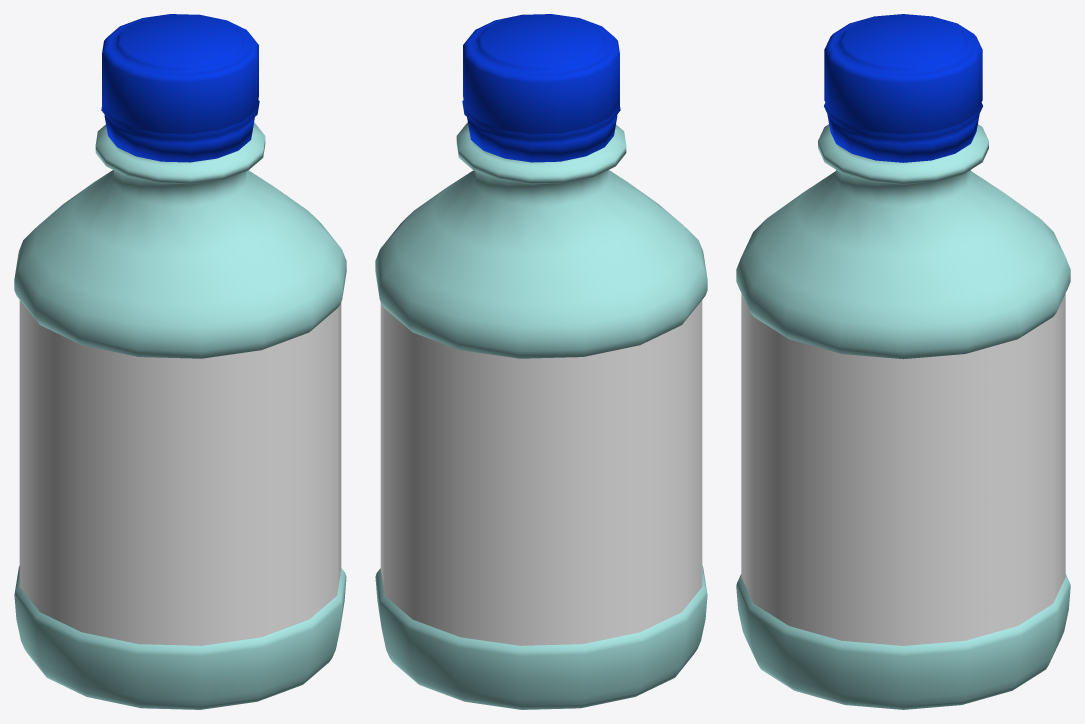
File: bottleSmall.glb
3 renders of one model, left to right at view 1: azimuth 30°, elevation 25°; view 2: azimuth 150°, elevation 25°; view 3: azimuth 270°, elevation 25°, orthographic.
Visible parts, largest first — view 1: bottleLabel, bottleBody, bottleCap; view 2: bottleLabel, bottleBody, bottleCap; view 3: bottleLabel, bottleBody, bottleCap.
Boxes of the visible parts, x1,y1,x2,y2 form: bottleLabel: [19, 300, 341, 645]; bottleBody: [14, 122, 346, 709]; bottleCap: [101, 14, 259, 162]; bottleLabel: [380, 300, 702, 645]; bottleBody: [375, 122, 707, 709]; bottleCap: [462, 14, 620, 162]; bottleLabel: [741, 293, 1065, 645]; bottleBody: [736, 124, 1070, 709]; bottleCap: [824, 14, 982, 162].
Bounding box in the file's own units: 1.27 × 2.54 × 1.27.
